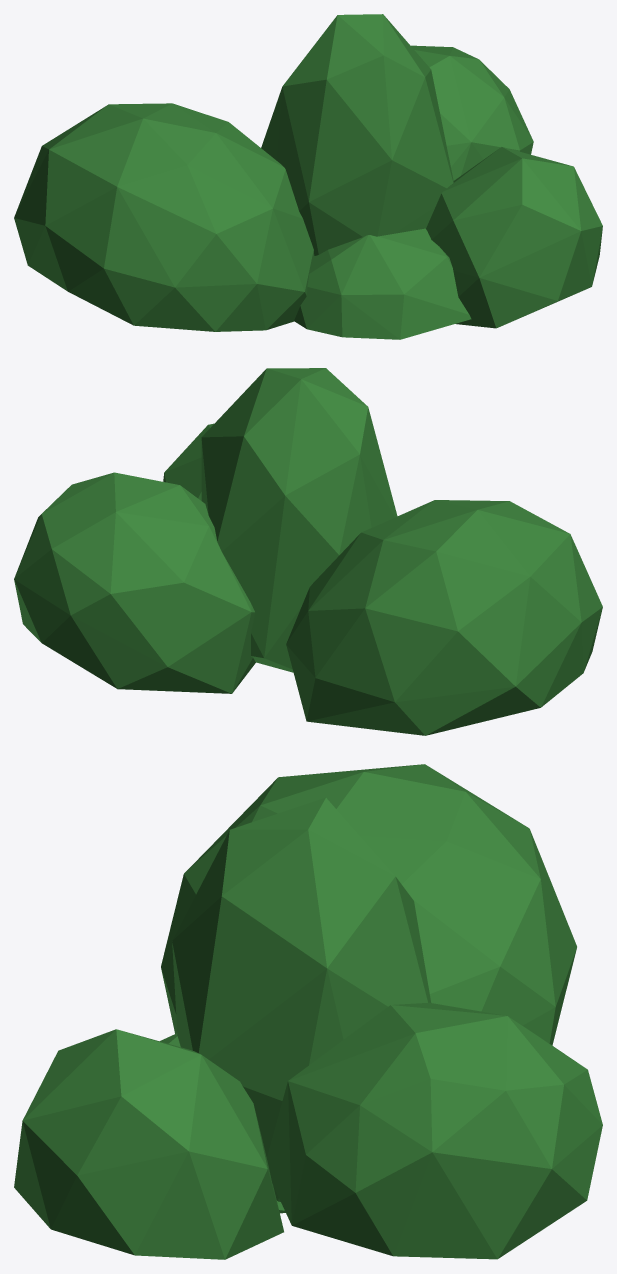
The model's file is Busch_Mesh.fbx.
The picture shows the model from 3 angles, top to bottom: view 1: azimuth 30°, elevation 25°; view 2: azimuth 150°, elevation 25°; view 3: azimuth 270°, elevation 25°; orthographic projection. The views are drawn at different scales.
Visible parts, largest first — view 1: Busch1; view 2: Busch1; view 3: Busch1.
Boxes of the visible parts, <box> form: Busch1: <box>14,14,602,339</box>; Busch1: <box>14,368,602,735</box>; Busch1: <box>14,764,602,1259</box>.
Size of the model in its own units: 39.05 by 20.27 by 29.45.
